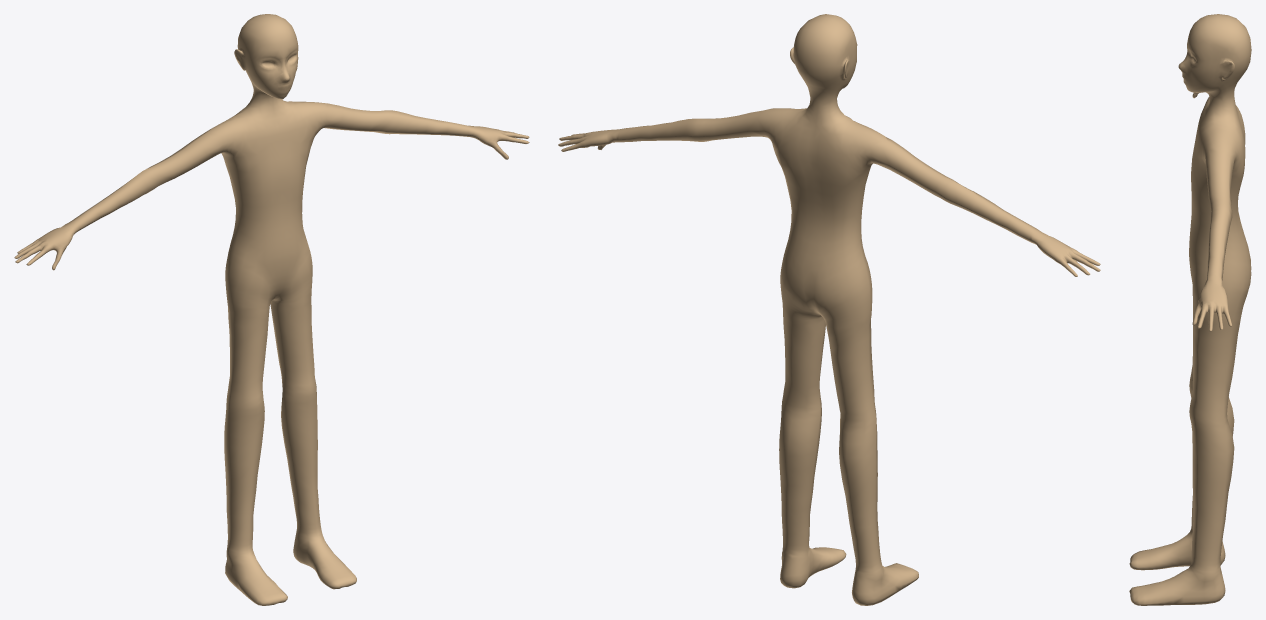
Rendered from m_body_01.fbx.
3 renders of one model, left to right at view 1: azimuth 30°, elevation 25°; view 2: azimuth 150°, elevation 25°; view 3: azimuth 270°, elevation 25°, orthographic. The views are drawn at different scales.
Parts seen in each view (by area): view 1: m_body_01; view 2: m_body_01; view 3: m_body_01.
Part boxes in pixels (left/top/right/bottom): m_body_01: left=14, top=14, right=529, bottom=605; m_body_01: left=558, top=14, right=1100, bottom=605; m_body_01: left=1129, top=14, right=1251, bottom=605.
Size of the model in its own units: 176 by 180 by 35.31.
